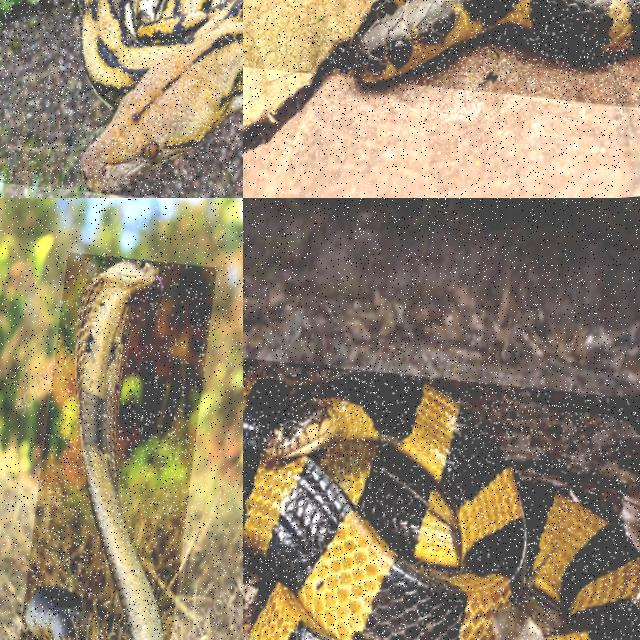Bungarus fasciatus: (243, 371, 639, 639), (350, 0, 639, 80)
Malayopython reticulatus: (78, 0, 242, 194)
Naja kaouthia: (75, 260, 163, 639)
snake: (243, 371, 639, 639), (75, 260, 163, 639), (78, 0, 242, 194), (350, 0, 639, 80)
